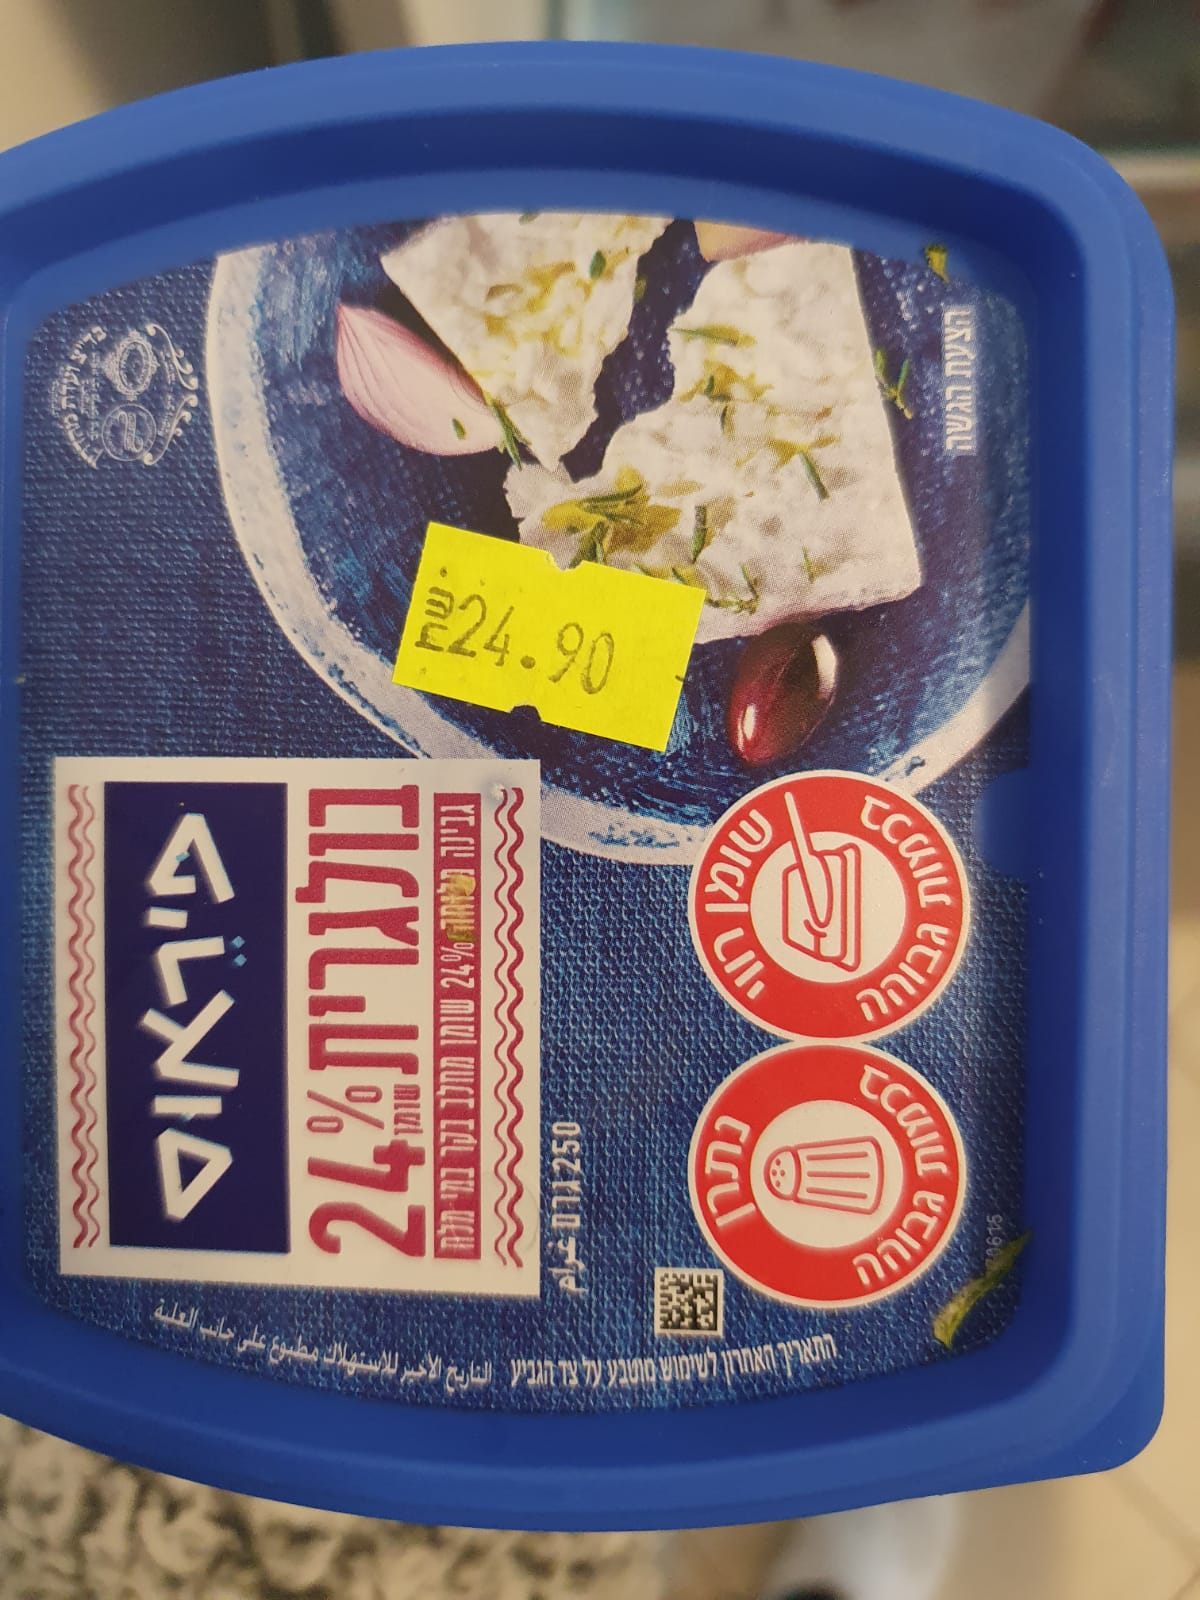fat: (682, 770, 971, 1049)
salt: (682, 1041, 972, 1311)
